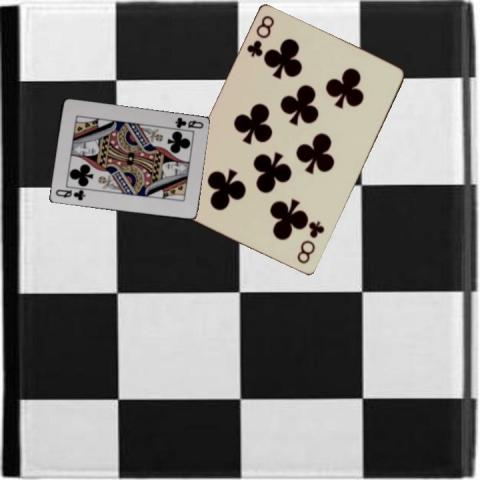8c: (294, 219, 326, 266), (244, 12, 276, 59)
Qc: (53, 187, 87, 202), (172, 115, 205, 130)
